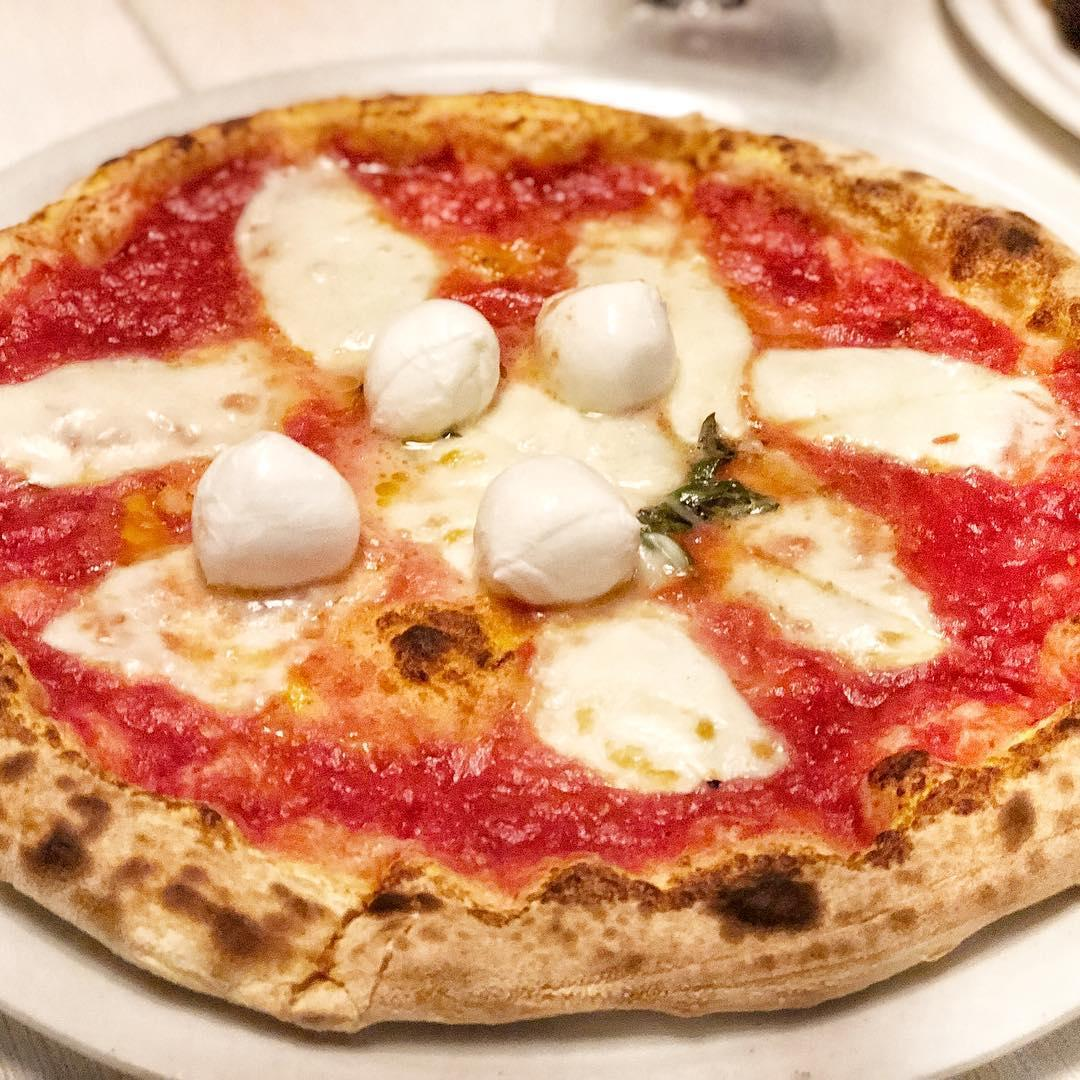Basil: (645, 435, 766, 528)
Cheese: (549, 632, 763, 778), (83, 553, 267, 693), (772, 349, 1022, 452), (599, 241, 747, 414), (266, 187, 411, 349), (195, 441, 364, 578), (0, 369, 221, 472), (748, 512, 911, 644), (369, 297, 492, 437), (543, 283, 672, 396)
Pizza: (0, 83, 1080, 1029)
